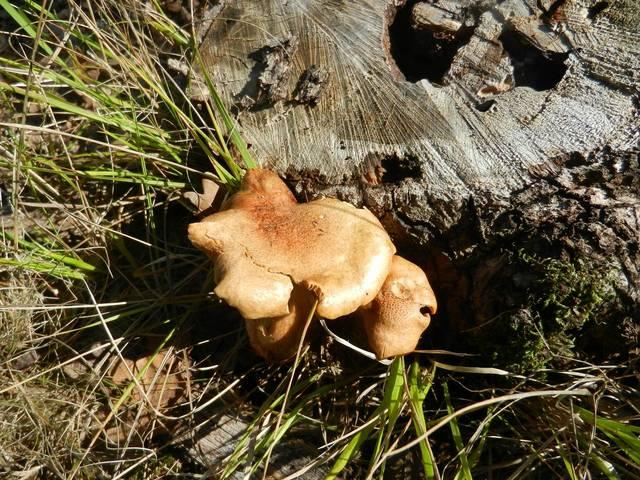edible_mushroom: (185, 166, 396, 364), (353, 253, 438, 360)
